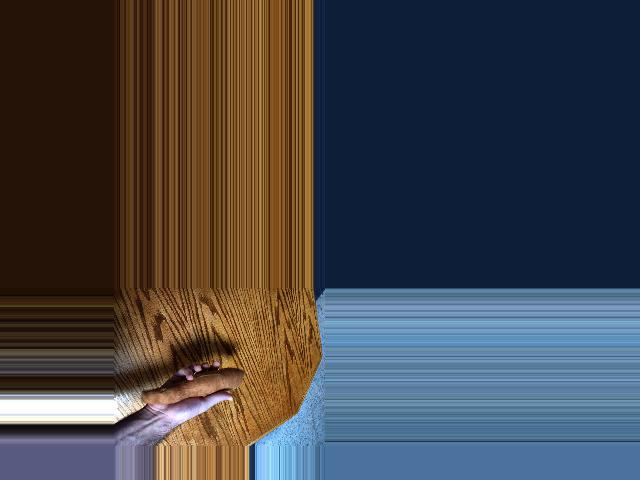sweet_potato: (143, 367, 246, 405)
